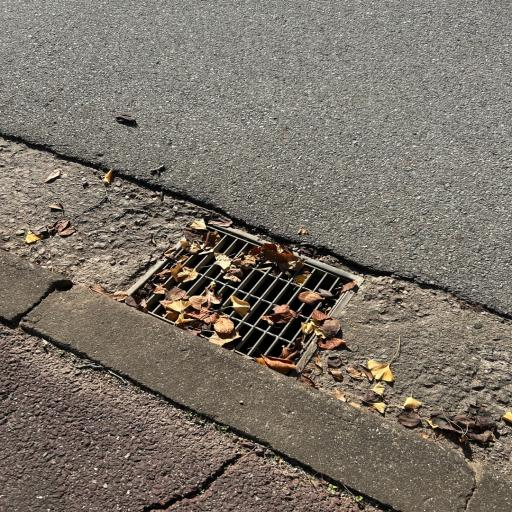debris: (146, 283, 239, 342), (206, 245, 303, 280), (153, 256, 200, 281), (300, 309, 342, 336), (180, 231, 219, 253), (261, 347, 298, 368), (117, 282, 138, 307), (227, 294, 250, 315), (273, 304, 299, 322), (298, 290, 320, 303), (339, 279, 357, 293), (294, 271, 308, 284), (262, 315, 273, 323), (142, 301, 150, 311), (165, 251, 174, 259), (197, 224, 204, 229)
drain: (117, 221, 361, 370)
